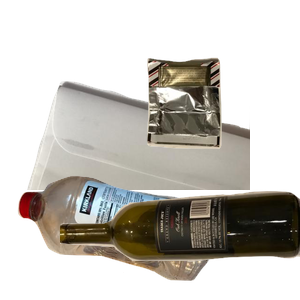glass: (60, 189, 300, 300)
paper: (25, 79, 265, 259)
plastic: (15, 173, 222, 300)
trash: (144, 55, 300, 197)
